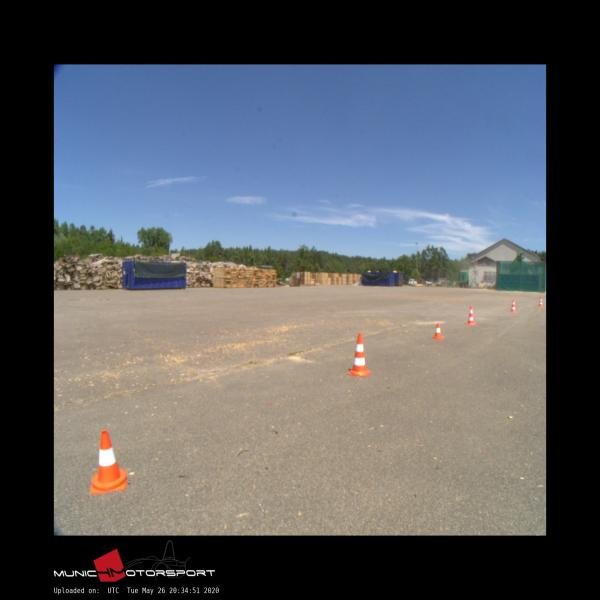large_orange_cone: (348, 333, 371, 376), (467, 306, 476, 324), (510, 299, 516, 312), (538, 296, 543, 306)
orange_cone: (90, 430, 127, 486), (432, 323, 443, 339)
